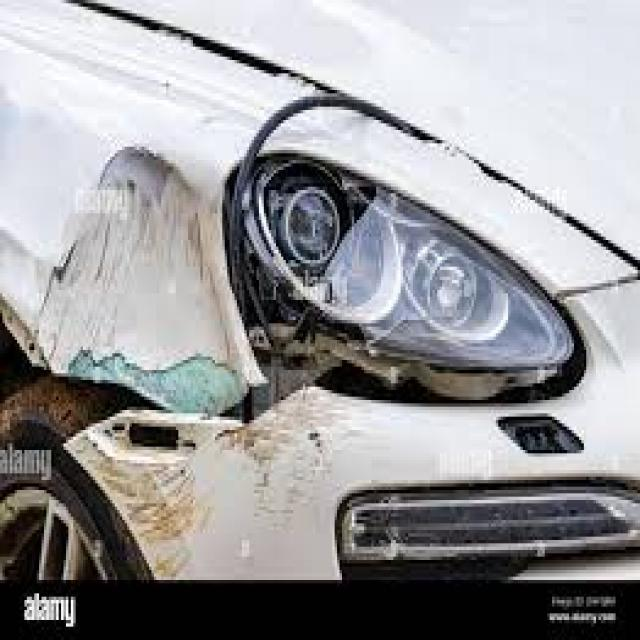damaged-head-light: (231, 146, 569, 394)
